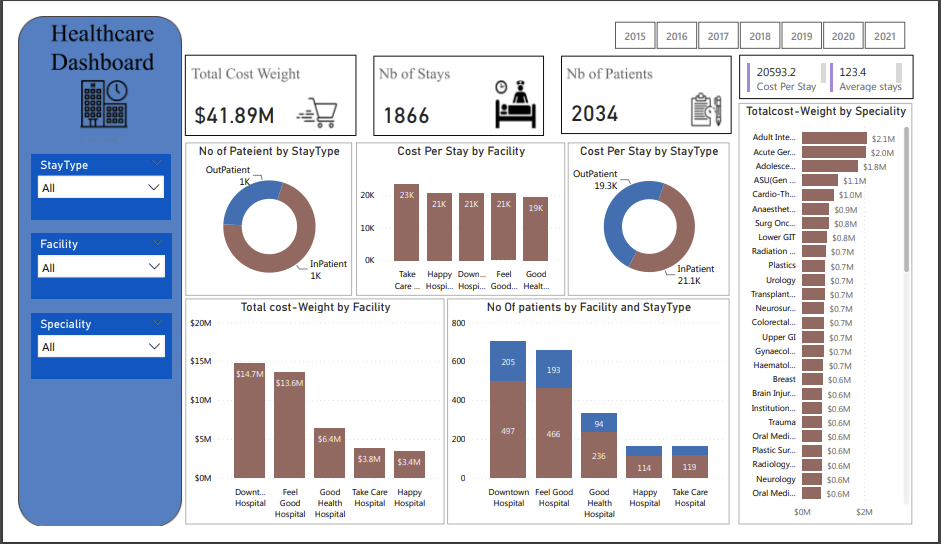

The page's visual inventory and layout, read from the dashboard file:
{"tool":"powerbi","page":{"name":"Summary Analysis","canvas":[1280,720],"ordinal":1},"visuals":[{"type":"donutChart","fields":{"Category":["StayType.StayType"],"Y":["DaxTable.Cost Per Stay"]},"box":[778,178.2,229.2,216.4],"z":1000},{"type":"columnChart","title":"Total cost-Weight by Facility","fields":{"Category":["Facility.Column2"],"Y":["DaxTable.Totalcost-Weight"]},"box":[236.2,398.9,366.4,319.7],"z":2000},{"type":"barChart","fields":{"Y":["DaxTable.Totalcost-Weight"],"Category":["Speciality.Column2"]},"box":[1019.9,121.7,246.1,596.9],"z":3000},{"type":"clusteredColumnChart","fields":{"Y":["DaxTable.Cost Per Stay"],"Category":["Facility.Facility"]},"box":[478.1,178.2,295.6,216.4],"z":4000},{"type":"slicer","fields":{"Values":["Facility.Column2"]},"box":[17,307.1,198.6,92.9],"z":6000},{"type":"slicer","fields":{"Values":["Speciality.Column2"]},"box":[17,420,198.6,92.9],"z":7000},{"type":"columnChart","fields":{"Category":["Facility.Facility"],"Series":["StayType.StayType"],"Y":["DaxTable.No Of patients"]},"box":[606.8,398.9,400.3,319.7],"z":9000},{"type":"slicer","fields":{"Values":["FactHealthCare.DischargeDate.Variation.Date Hierarchy.Year"]},"box":[819,0,461.1,52.3],"z":10000},{"type":"donutChart","title":"No of Pateient by StayType","fields":{"Category":["StayType.StayType"],"Y":["DaxTable.No of Pateient Stays"]},"box":[236.2,178.2,236.2,216.4],"z":11000},{"type":"slicer","fields":{"Values":["StayType.StayType"]},"box":[17,193.8,198,93.4],"z":12000},{"type":"multiRowCard","fields":{"Values":["DaxTable.Cost Per Stay"]},"box":[1027.1,61.4,122.9,48.6],"z":13000},{"type":"card","fields":{"Values":["DaxTable.Totalcost-Weight"]},"box":[241.4,94.3,128.6,84.3],"z":14000},{"type":"card","fields":{"Values":["CountNonNull(FactHealthCare.StayNbr)"]},"box":[770.9,94.8,90.5,77.8],"z":15000},{"type":"card","fields":{"Values":["DaxTable.No Of patients"]},"box":[493.7,94.8,108.9,83.5],"z":16000},{"type":"multiRowCard","fields":{"Values":["Avg(FactHealthCare.Lenght of stays)"]},"box":[1144.3,61.4,112.9,48.6],"z":17000}]}

Visuals, with their boxes in screenshot pixels (x1, y1, x2, y2), scaled from the page's 1280x720 canvas onto the 941x544 screenshot:
donutChart - StayType.StayType x DaxTable.Cost Per Stay: select_region(572, 135, 740, 298)
"Total cost-Weight by Facility" columnChart: select_region(174, 301, 443, 543)
barChart - DaxTable.Totalcost-Weight x Speciality.Column2: select_region(750, 92, 931, 543)
clusteredColumnChart - DaxTable.Cost Per Stay x Facility.Facility: select_region(351, 135, 569, 298)
slicer - Facility.Column2: select_region(12, 232, 158, 302)
slicer - Speciality.Column2: select_region(12, 317, 158, 388)
columnChart - Facility.Facility x StayType.StayType: select_region(446, 301, 740, 543)
slicer - FactHealthCare.DischargeDate.Variation.Date Hierarchy.Year: select_region(602, 0, 940, 40)
"No of Pateient by StayType" donutChart: select_region(174, 135, 347, 298)
slicer - StayType.StayType: select_region(12, 146, 158, 217)
multiRowCard - DaxTable.Cost Per Stay: select_region(755, 46, 845, 83)
card - DaxTable.Totalcost-Weight: select_region(177, 71, 272, 135)
card - CountNonNull(FactHealthCare.StayNbr): select_region(567, 72, 633, 130)
card - DaxTable.No Of patients: select_region(363, 72, 443, 135)
multiRowCard - Avg(FactHealthCare.Lenght of stays): select_region(841, 46, 924, 83)
